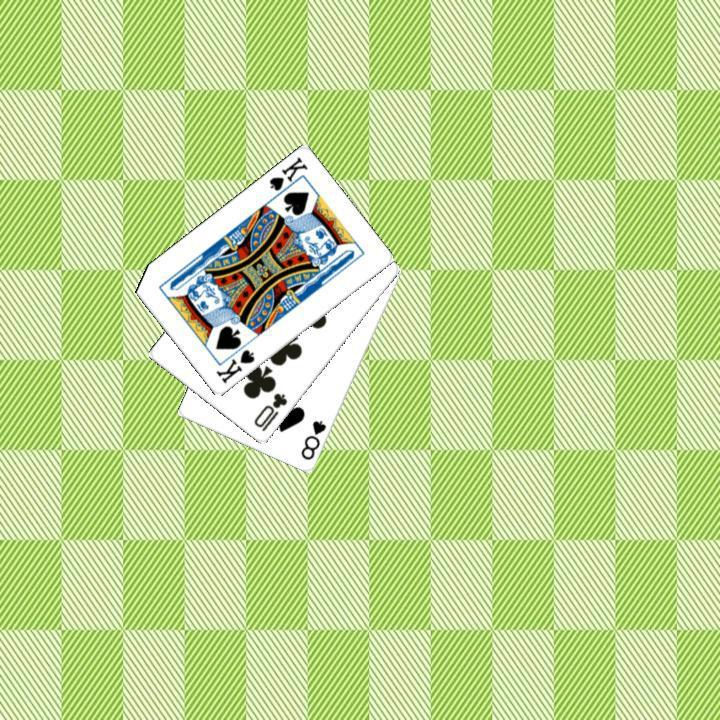10: (249, 389, 290, 434)
8: (296, 416, 328, 462)
K: (264, 153, 310, 201), (212, 345, 257, 386)
